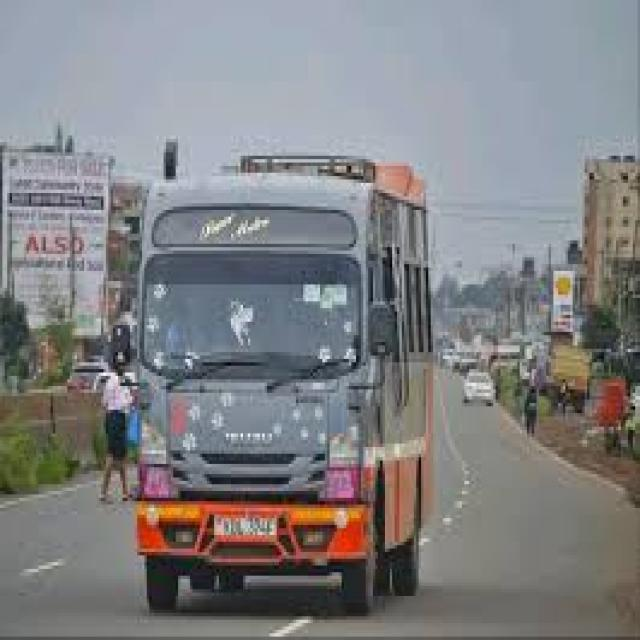bus: (95, 100, 445, 626)
